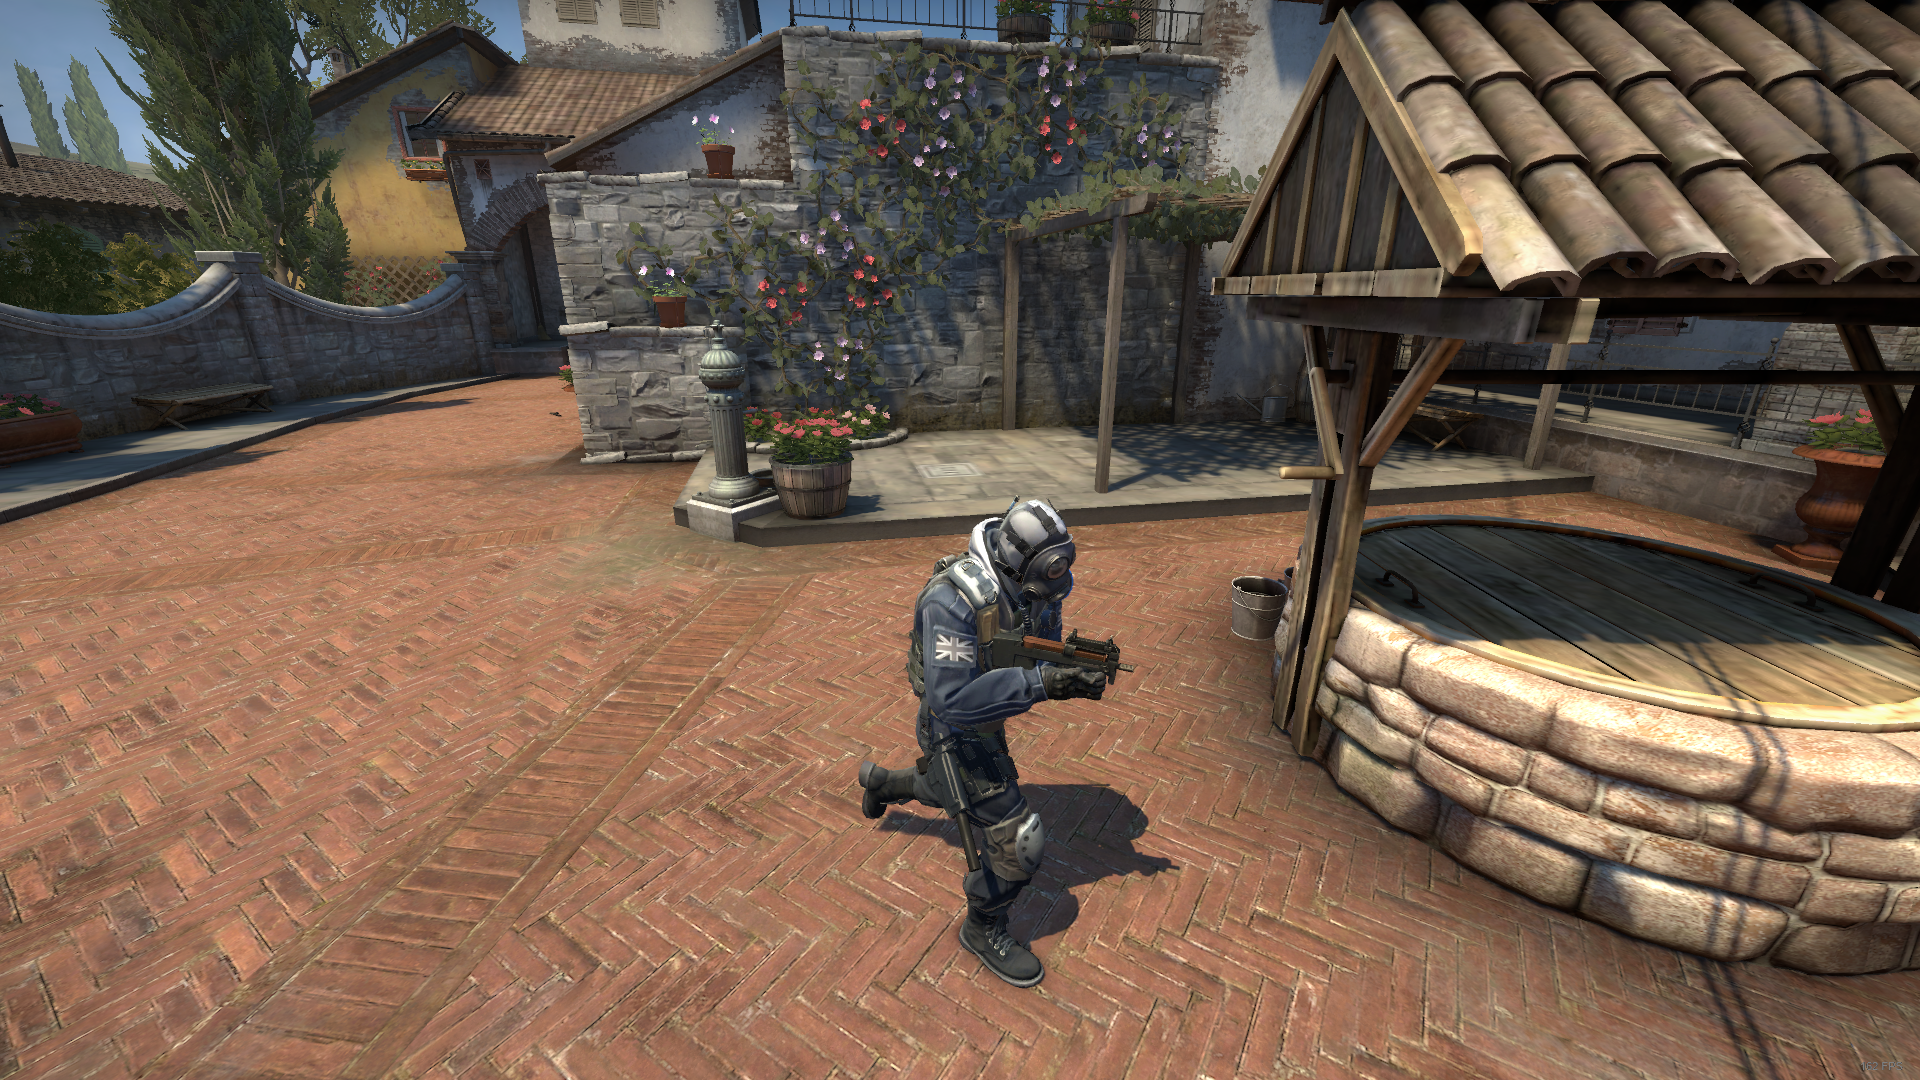ct: (853, 495, 1125, 998)
